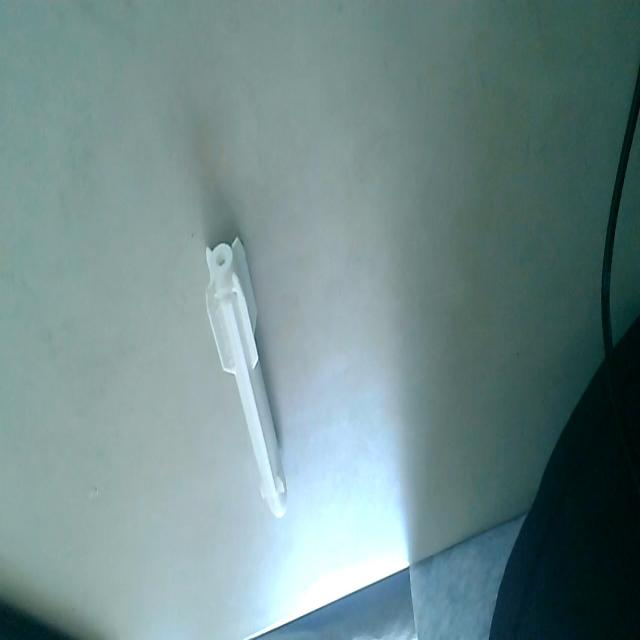Rocket: (204, 234, 288, 526)
